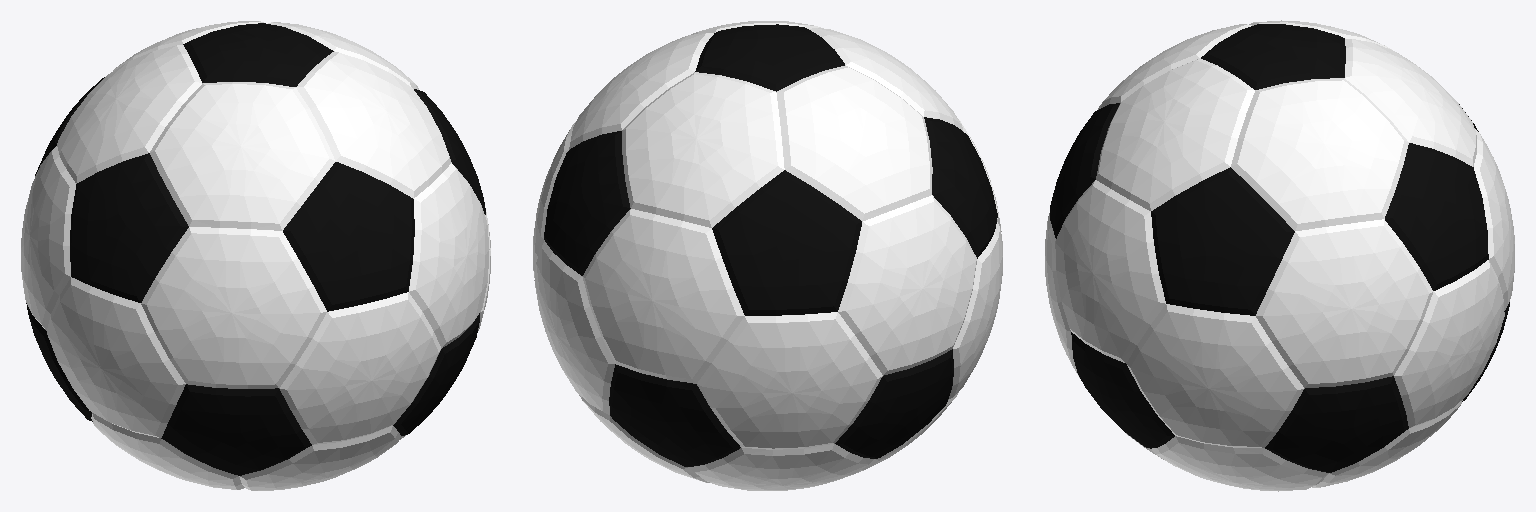
File: Balon.obj
The picture shows the model from 3 angles: view 1: azimuth 30°, elevation 25°; view 2: azimuth 150°, elevation 25°; view 3: azimuth 270°, elevation 25°; orthographic projection.
Parts seen in each view (by area): view 1: white, black; view 2: white, black; view 3: white, black.
Part boxes in pixels (bbox=[...]): white: bbox=[21, 21, 490, 490]; black: bbox=[26, 23, 485, 475]; white: bbox=[533, 21, 1002, 490]; black: bbox=[544, 24, 997, 466]; white: bbox=[1045, 20, 1514, 491]; black: bbox=[1050, 24, 1509, 472].
Bounding box in the file's own units: 9.36 × 9.39 × 9.39.